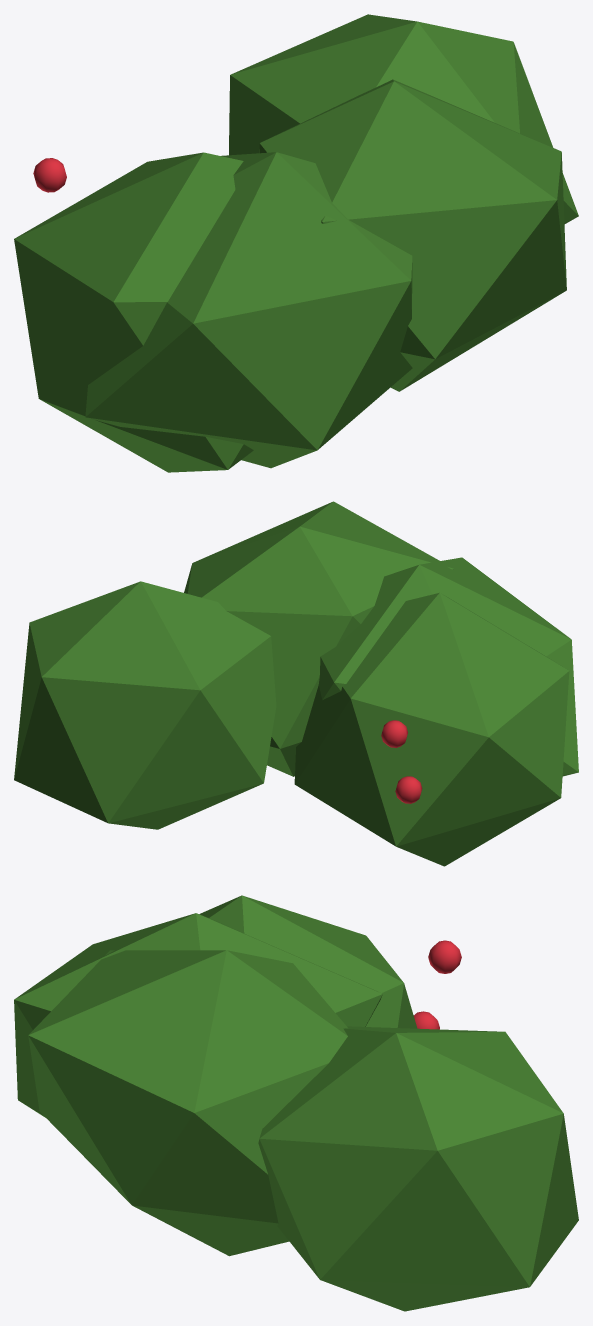
File: bush.glb
3 views of the same model, one above another, from view 1: azimuth 30°, elevation 25°; view 2: azimuth 150°, elevation 25°; view 3: azimuth 270°, elevation 25° (orthographic). The views are drawn at different scales.
Visible parts, largest first — view 1: Bush; view 2: Bush; view 3: Bush.
Part boxes in pixels (x1=…): Bush: x1=14, y1=14, x2=578, y2=472; Bush: x1=14, y1=501, x2=578, y2=866; Bush: x1=14, y1=895, x2=578, y2=1311.
Bounding box in the file's own units: 1.33 × 0.7928 × 1.17.
